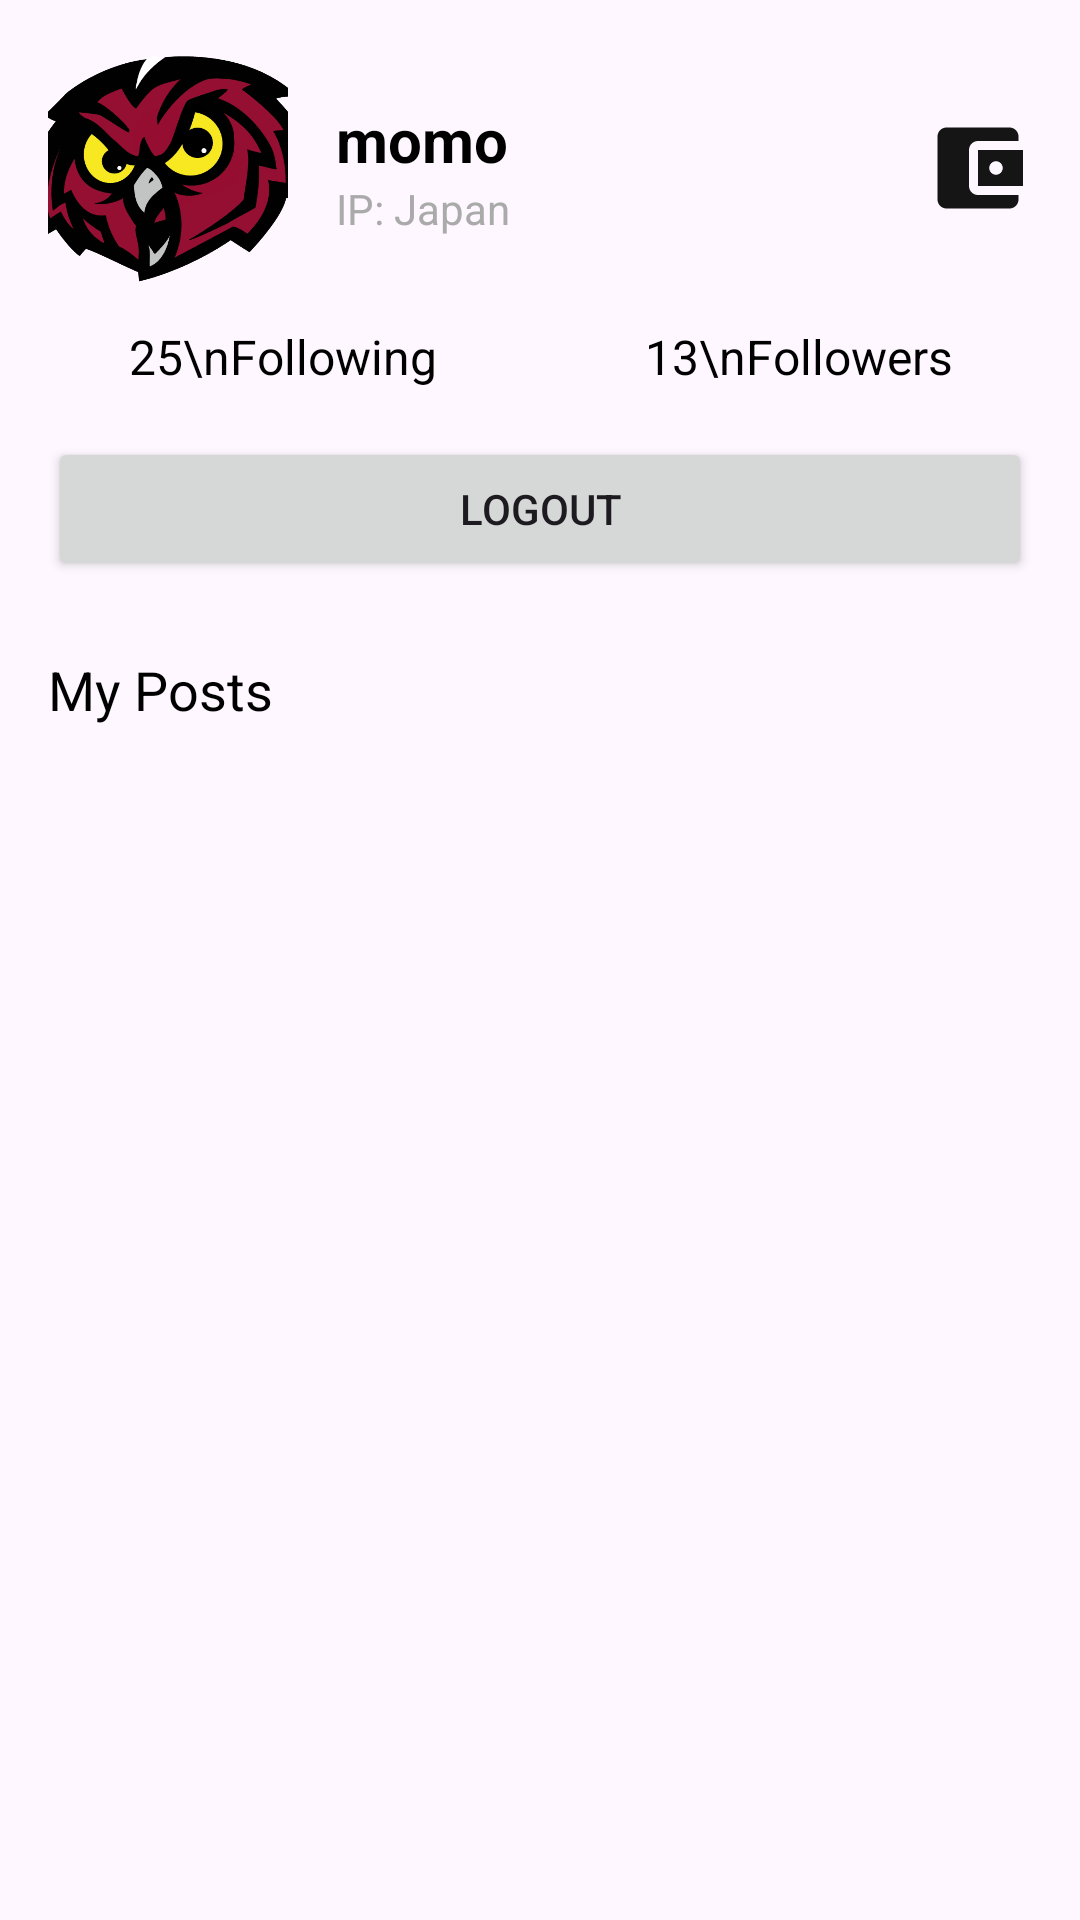

Named icons in this screenshot (1080×1920) and their bounding boxes, (x1, y1, x2, y2):
wallet: (937, 127, 1023, 209)
